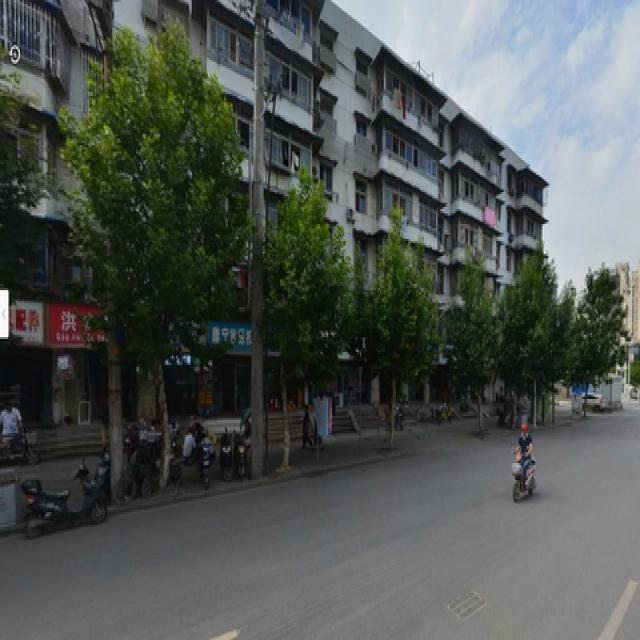meta: (83, 56, 229, 482)
